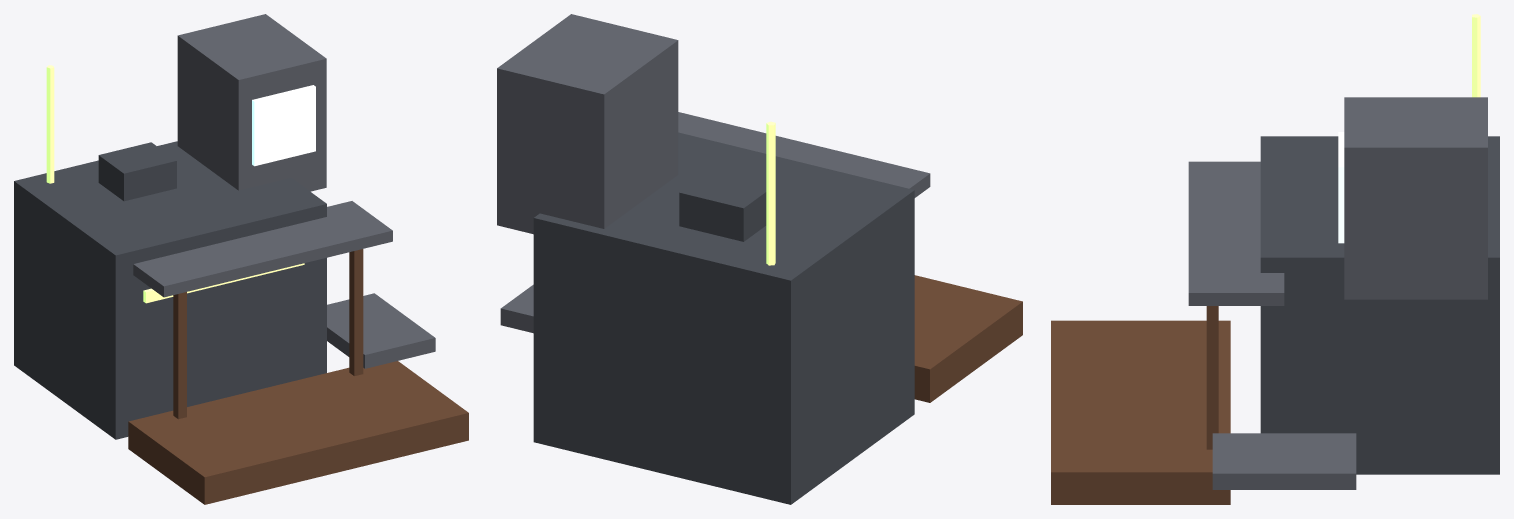
Rendered from dock_office.glb.
The picture shows the model from 3 angles, left to right: view 1: azimuth 30°, elevation 25°; view 2: azimuth 150°, elevation 25°; view 3: azimuth 270°, elevation 25°; orthographic projection. The views are drawn at different scales.
Parts seen in each view (by area): view 1: dock_office; view 2: dock_office; view 3: dock_office.
Part boxes in pixels (x1,y1,x2,y2): dock_office: [14, 14, 468, 504]; dock_office: [497, 14, 1022, 504]; dock_office: [1051, 14, 1499, 504].
Bounding box in the file's own units: 3.4 × 3.25 × 3.75.
